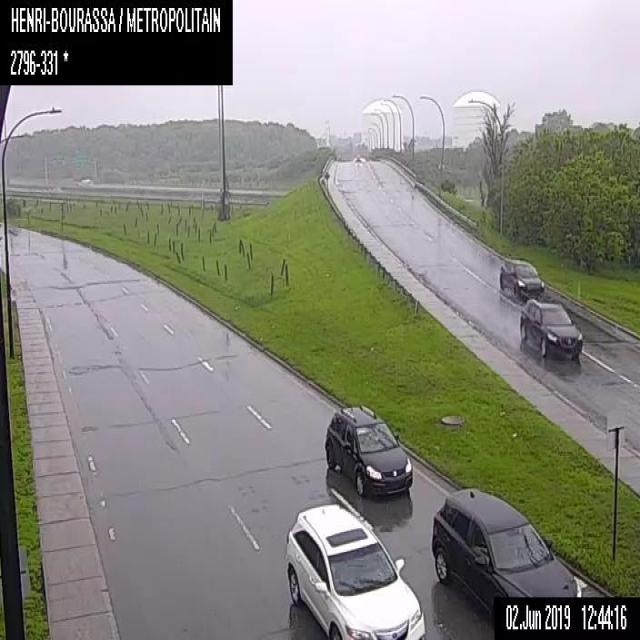vehicle: (284, 501, 424, 639), (431, 488, 576, 621), (322, 398, 412, 498), (517, 296, 582, 356), (497, 256, 545, 297)
